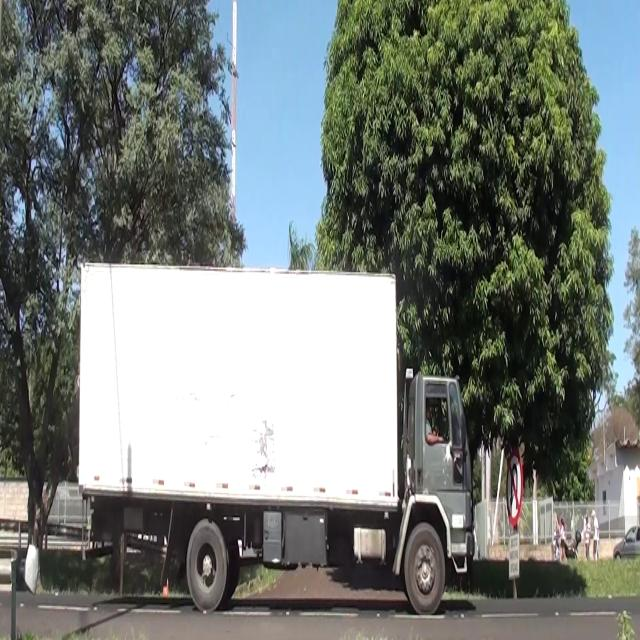-axle: (403, 518, 448, 617), (187, 520, 231, 614)
